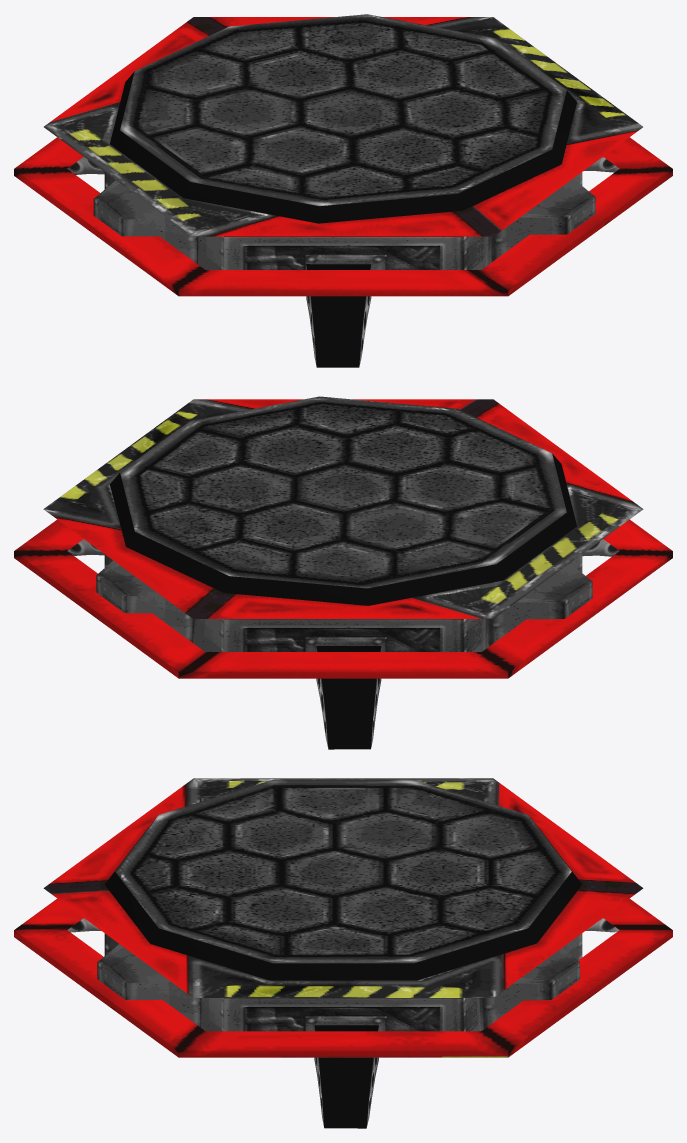
The model's file is teleporter.glb.
3 renders of one model, top to bottom at view 1: azimuth 30°, elevation 25°; view 2: azimuth 150°, elevation 25°; view 3: azimuth 270°, elevation 25°, orthographic.
Visible parts, largest first — view 1: teleporter; view 2: teleporter; view 3: teleporter.
Part boxes in pixels (x1,y1,x2,y2): teleporter: (14,14,672,367); teleporter: (14,396,672,749); teleporter: (14,778,672,1128).
Bounding box in the file's own units: 53.79 × 11.48 × 57.84.
Materials: 2 (2 with a texture image).
